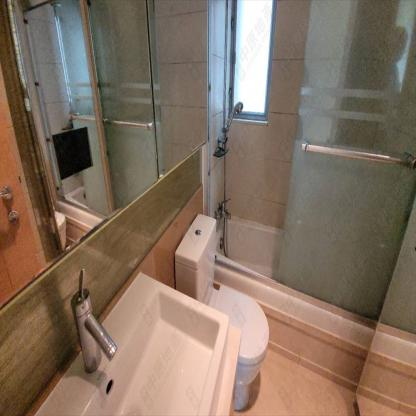Bathtub: (212, 212, 283, 309)
Faucet: (76, 286, 115, 381)
Toilet: (173, 212, 269, 411)
Toilet Sink: (70, 273, 230, 415)
Water Cubicle: (276, 0, 416, 318)
